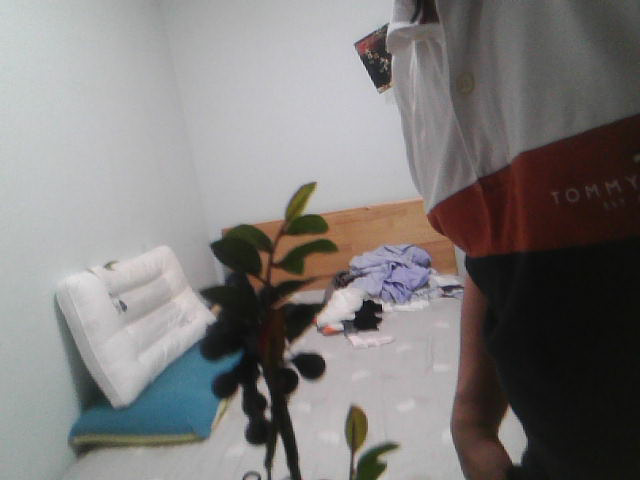blueberry: (201, 367, 237, 399), (240, 414, 271, 445), (386, 22, 416, 51), (298, 352, 331, 378), (272, 364, 301, 393), (200, 373, 234, 397)
